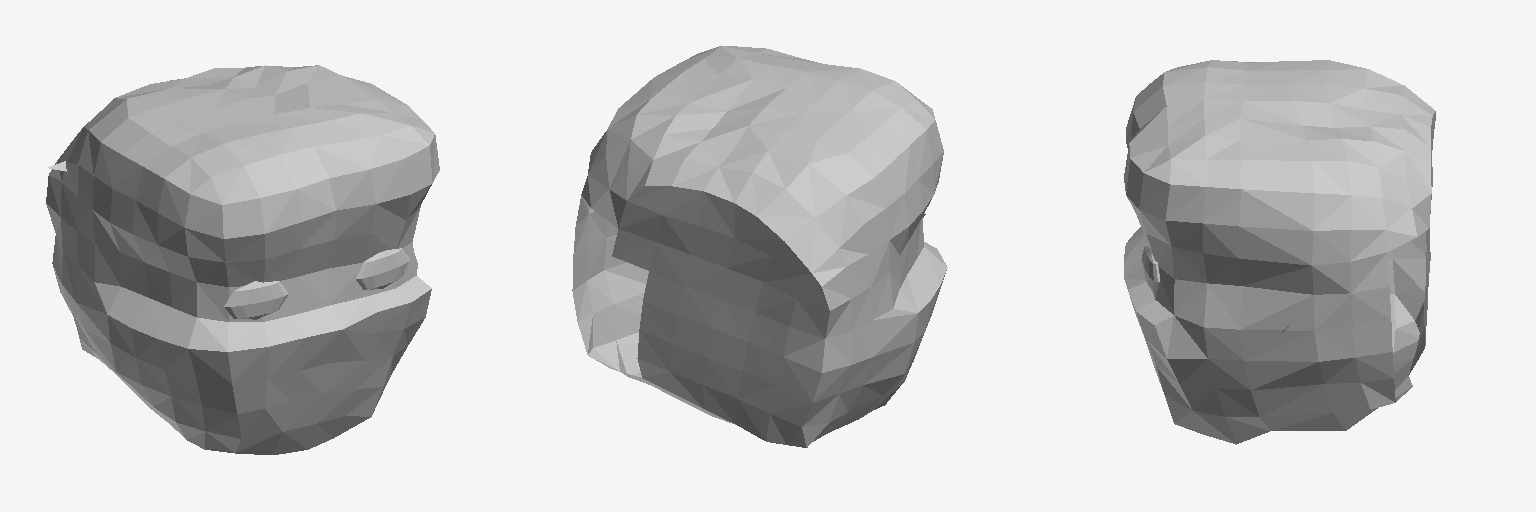
File: Head.obj
The picture shows the model from 3 angles: view 1: azimuth 30°, elevation 25°; view 2: azimuth 150°, elevation 25°; view 3: azimuth 270°, elevation 25°; orthographic projection.
Visible parts, largest first — view 1: Stone:Mesh; view 2: Stone:Mesh; view 3: Stone:Mesh.
Part boxes in pixels (x1,y1,x2,y2): Stone:Mesh: (46,65,439,454); Stone:Mesh: (572,46,947,447); Stone:Mesh: (1124,60,1435,444).
Size of the model in its own units: 2.06 by 2.07 by 1.86.